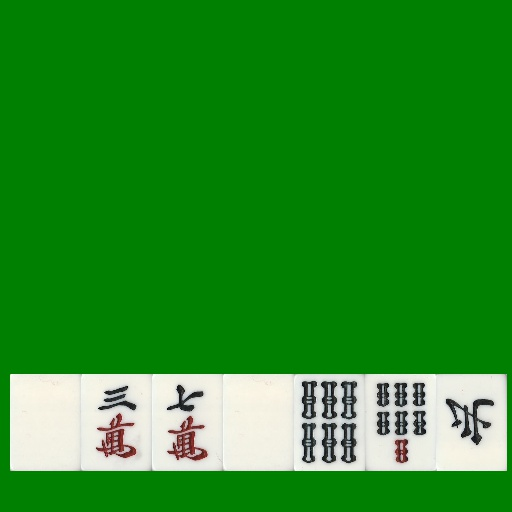3m: (81, 374, 152, 471)
6s: (294, 374, 365, 471)
7m: (152, 374, 223, 471)
7s: (365, 374, 436, 471)
north: (436, 374, 507, 471)
white: (10, 374, 81, 471), (223, 374, 294, 471)
